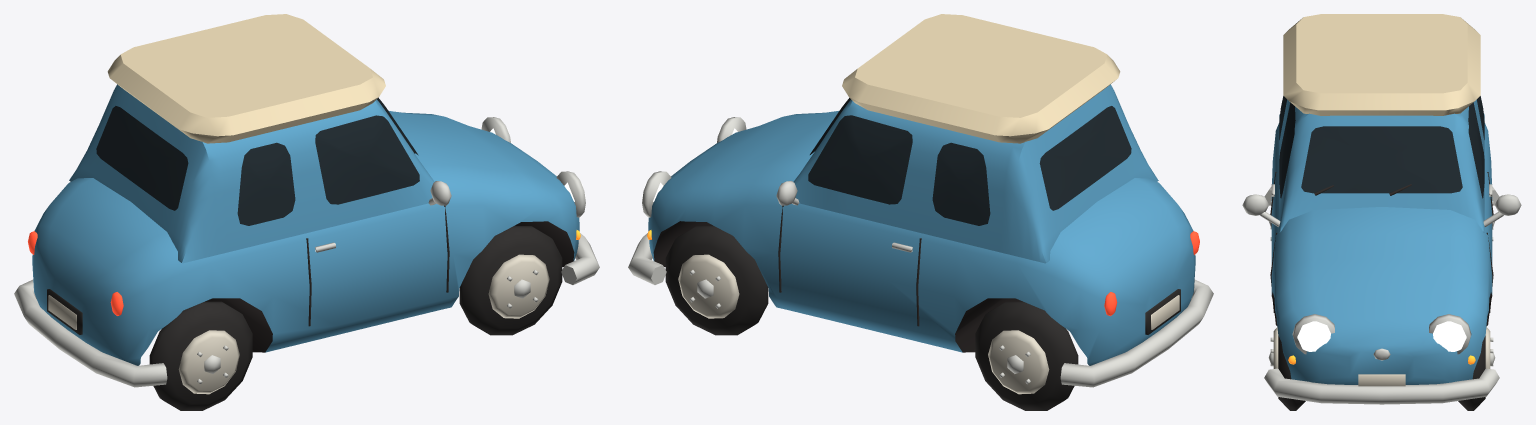
File: car.glb
The picture shows the model from 3 angles, left to right: view 1: azimuth 30°, elevation 25°; view 2: azimuth 150°, elevation 25°; view 3: azimuth 270°, elevation 25°; orthographic projection. The views are drawn at different scales.
Parts seen in each view (by area): view 1: Body, Roof, Cabin, FrontWindow-1, WheelFR, WheelBR, BackLight, RearWindow-1, BumperRear, WheelFRCap, WheelBRCap, BumperFront (+1 smaller); view 2: Body, Roof, Cabin, FrontWindow1, WheelFL, WheelBL, BackLight, RearWindow1, BumperRear, WheelFLCap, WheelBLCap, BumperFront (+1 smaller); view 3: Body, Roof, Windscreen, Cabin, BumperFront, FrontWindow1, FrontWindow-1, Head1Lens, Head-1Lens, PlateFront, WheelFL, WheelFR (+4 smaller).
Part boxes in pixels (box(x1,y1,x2,y2)): Body: box(32, 111, 579, 365); Roof: box(107, 14, 385, 143); Cabin: box(69, 84, 434, 263); FrontWindow-1: box(315, 115, 419, 204); WheelFR: box(459, 226, 562, 335); WheelBR: box(149, 301, 252, 410); BackLight: box(96, 106, 188, 210); RearWindow-1: box(237, 142, 295, 225); BumperRear: box(14, 279, 167, 387); WheelFRCap: box(488, 254, 549, 318); WheelBRCap: box(178, 330, 239, 394); BumperFront: box(561, 233, 599, 284); Body: box(648, 110, 1195, 365); Roof: box(842, 14, 1120, 143); Cabin: box(793, 84, 1158, 263); FrontWindow1: box(808, 115, 912, 204); WheelFL: box(665, 226, 768, 335); WheelBL: box(975, 301, 1078, 410); BackLight: box(1039, 106, 1131, 210); RearWindow1: box(932, 142, 990, 225); BumperRear: box(1060, 279, 1213, 387); WheelFLCap: box(678, 254, 739, 318); WheelBLCap: box(988, 330, 1049, 394); BumperFront: box(628, 233, 666, 284); Body: box(1271, 123, 1492, 384); Roof: box(1283, 14, 1480, 115); Windscreen: box(1301, 126, 1462, 193); Cabin: box(1279, 99, 1484, 232); BumperFront: box(1264, 368, 1499, 404); FrontWindow1: box(1468, 102, 1484, 198); FrontWindow-1: box(1279, 102, 1295, 198); Head1Lens: box(1433, 321, 1466, 351); Head-1Lens: box(1297, 321, 1330, 351); PlateFront: box(1358, 374, 1405, 386); WheelFL: box(1458, 336, 1485, 410); WheelFR: box(1278, 336, 1305, 410).
Bounding box in the file's own units: 2.67 × 1.44 × 1.42.
